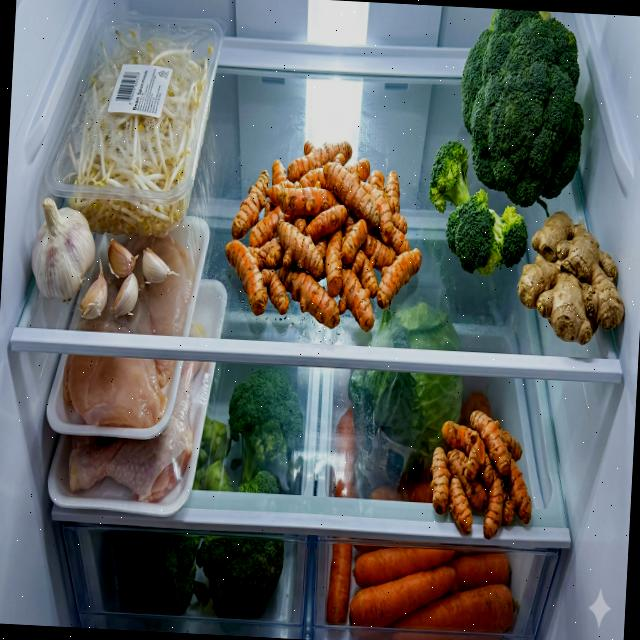bean_sprouts: (59, 26, 214, 240)
brocolli: (455, 8, 591, 210), (424, 138, 532, 278), (224, 366, 306, 492), (198, 536, 286, 622), (115, 530, 198, 617)
cabbage: (362, 301, 468, 474)
carrot: (326, 542, 520, 636)
chicken: (62, 232, 197, 429), (67, 315, 206, 505)
garlic: (80, 238, 182, 324), (30, 196, 99, 304)
ginger: (514, 209, 630, 348)
turmeric: (221, 133, 428, 334), (427, 408, 538, 540)
